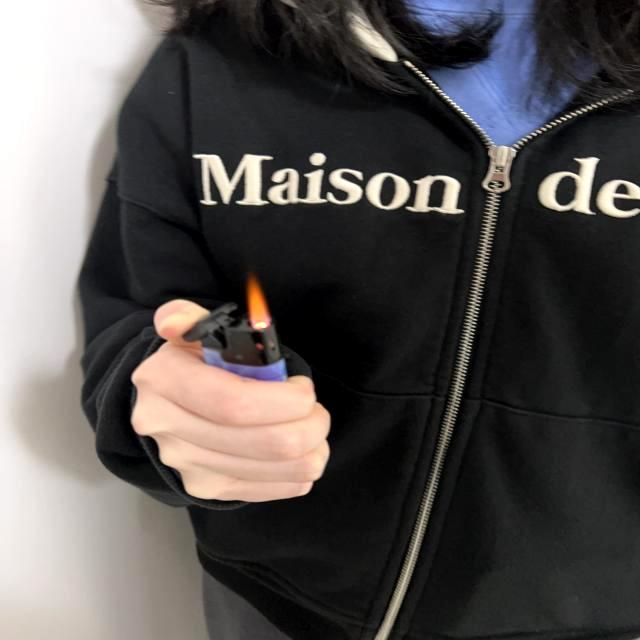fire: (242, 274, 274, 326)
